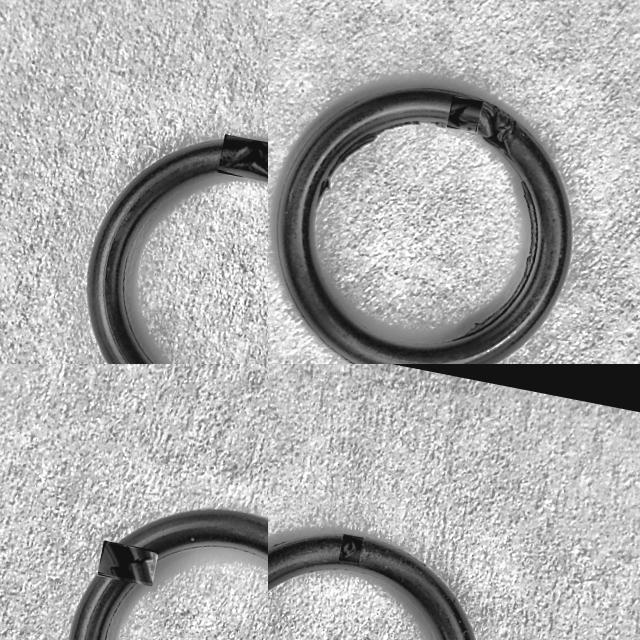切割缺陷: (470, 98, 521, 164), (220, 139, 268, 180), (448, 103, 480, 130), (343, 537, 362, 561)
挤压缺陷: (100, 553, 154, 574)
裂纹: (457, 181, 539, 339), (316, 121, 421, 211), (436, 122, 457, 130)
